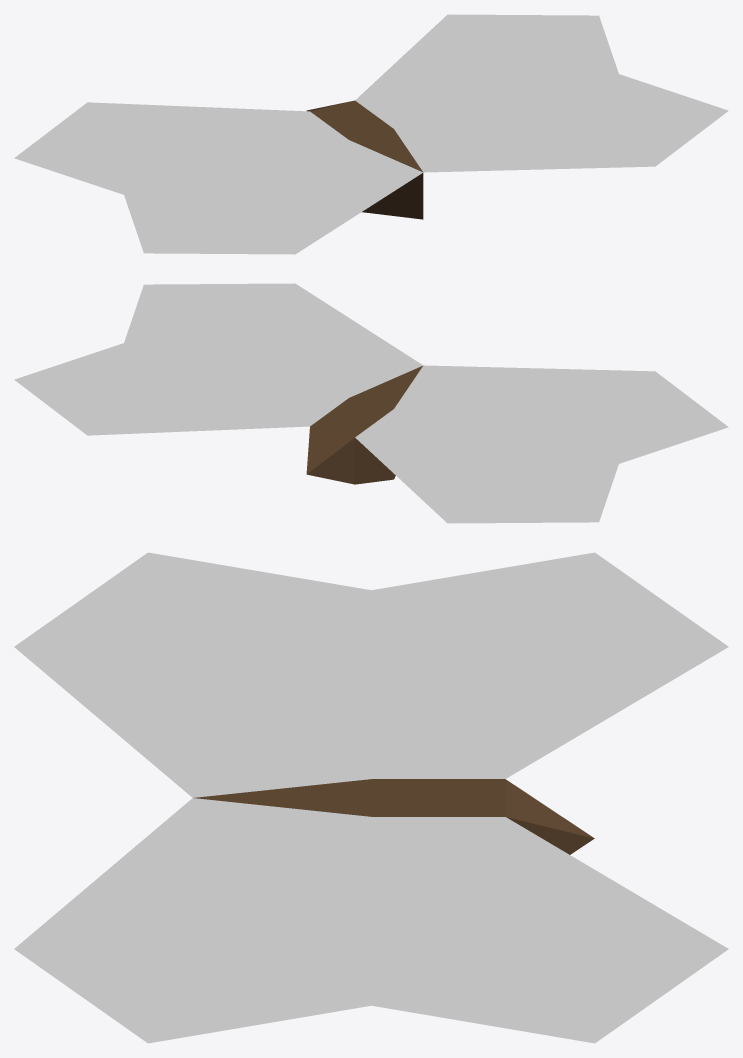
File: npc_world_butterfly_1_0.obj
3 renders of one model, top to bottom at view 1: azimuth 30°, elevation 25°; view 2: azimuth 150°, elevation 25°; view 3: azimuth 270°, elevation 25°, orthographic. The views are drawn at different scales.
Bounding box in the file's own units: 0.2031 × 0.0234 × 0.125.
